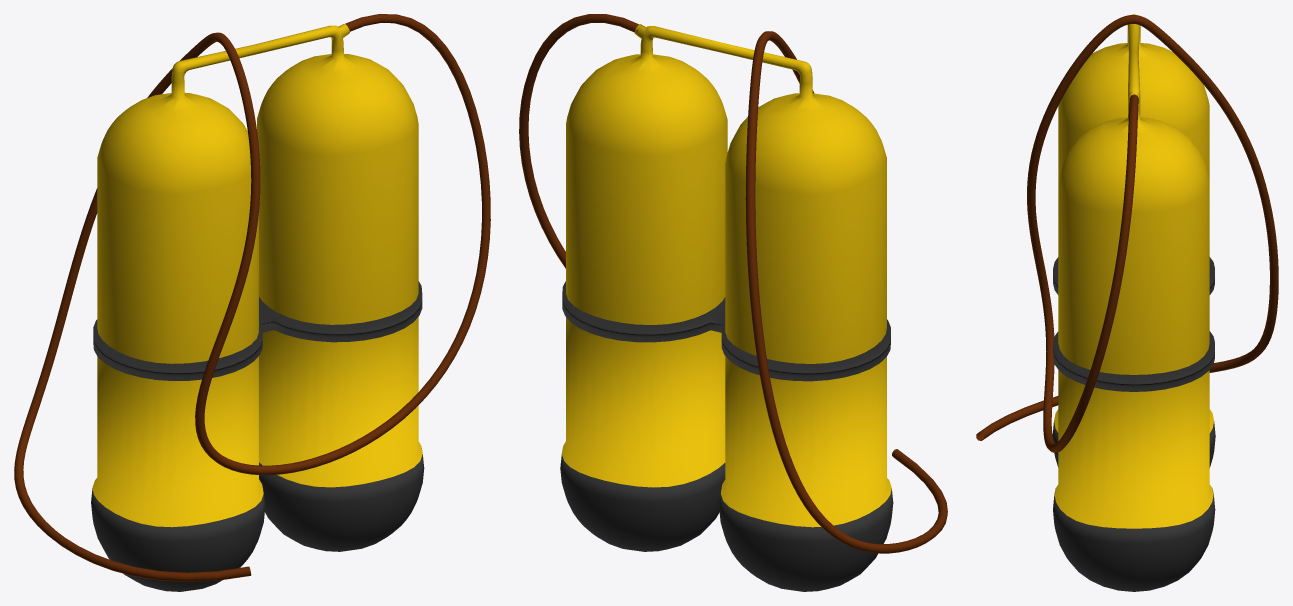
The model's file is OxygenSmallTank.fbx.
The picture shows the model from 3 angles, left to right: view 1: azimuth 30°, elevation 25°; view 2: azimuth 150°, elevation 25°; view 3: azimuth 270°, elevation 25°; orthographic projection. The views are drawn at different scales.
Visible parts, largest first — view 1: OxygenHolders, BottomHolder, cable, Holder; view 2: OxygenHolders, BottomHolder, cable, Holder; view 3: OxygenHolders, cable, BottomHolder, Holder.
Boxes of the visible parts, left/top/right/bottom form: OxygenHolders: left=92, top=24, right=422, bottom=527; BottomHolder: left=91, top=448, right=424, bottom=591; cable: left=14, top=14, right=490, bottom=581; Holder: left=93, top=281, right=422, bottom=380; OxygenHolders: left=562, top=24, right=891, bottom=527; BottomHolder: left=560, top=454, right=893, bottom=591; cable: left=519, top=14, right=947, bottom=553; Holder: left=562, top=281, right=890, bottom=381; OxygenHolders: left=1054, top=14, right=1213, bottom=528; cable: left=976, top=15, right=1278, bottom=452; BottomHolder: left=1052, top=420, right=1215, bottom=591; Holder: left=1053, top=257, right=1214, bottom=391.
Size of the model in its own units: 511 by 619 by 330.
